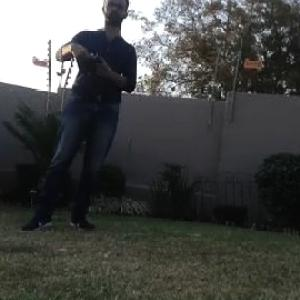follow: (14, 0, 146, 236)
